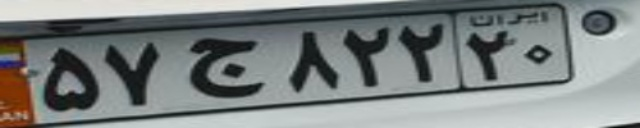0: (521, 42, 555, 65)
2: (396, 21, 449, 82), (342, 25, 389, 87), (466, 28, 509, 81)
5: (43, 46, 98, 111)
7: (103, 41, 157, 106)
8: (284, 29, 340, 93)
jim: (188, 36, 263, 98)
